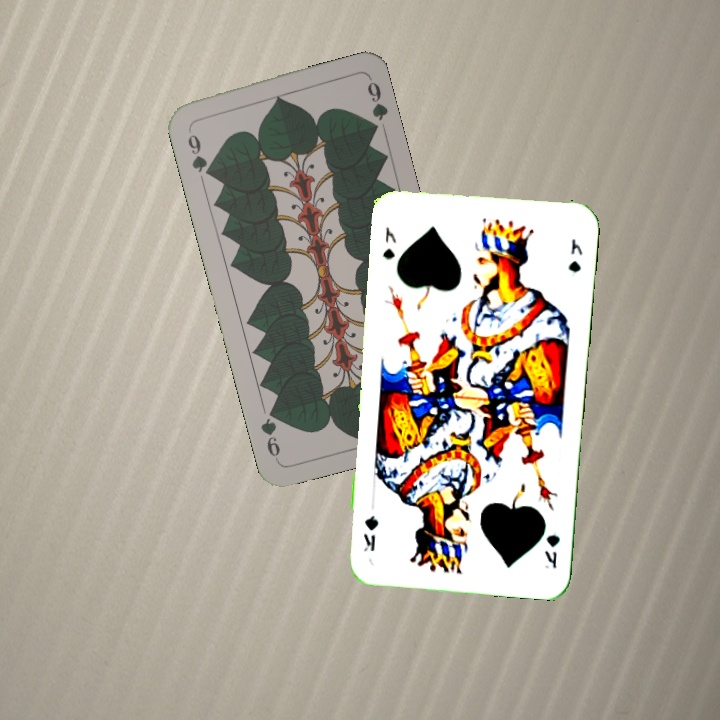G9: (183, 123, 215, 179)
GK: (541, 531, 562, 571), (378, 223, 399, 262)
